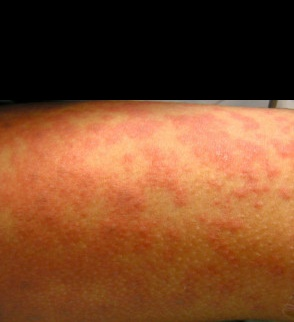SJS-TEN: (0, 91, 294, 318)
